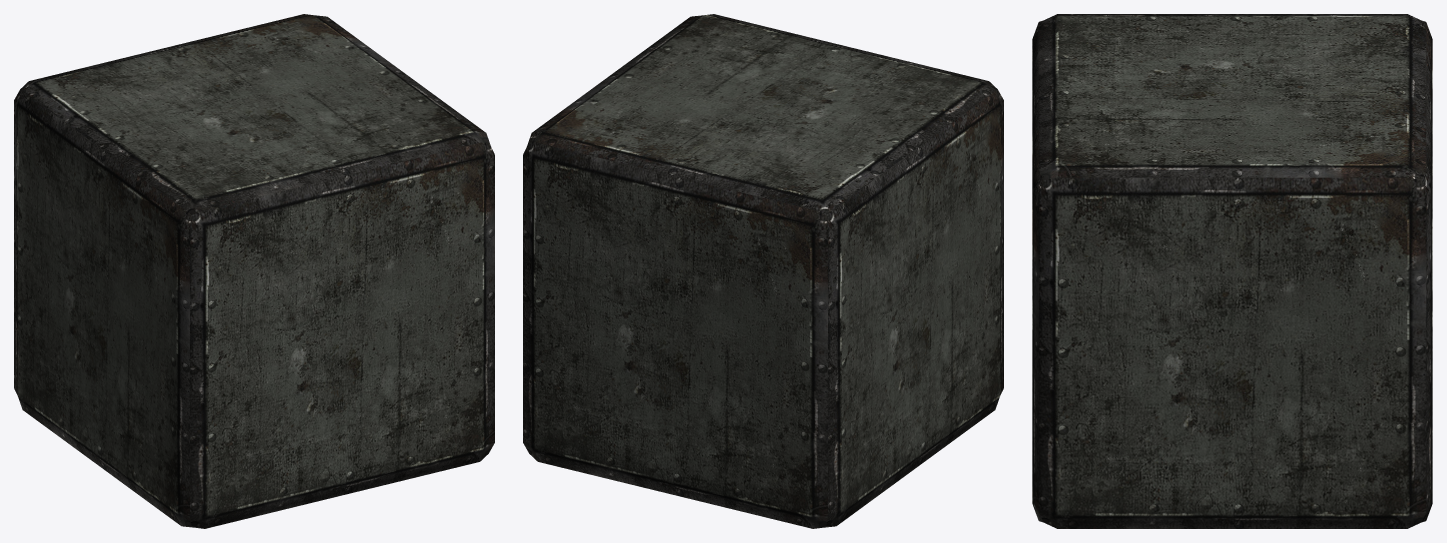
The model's file is crate.dae.
3 renders of one model, left to right at view 1: azimuth 30°, elevation 25°; view 2: azimuth 150°, elevation 25°; view 3: azimuth 270°, elevation 25°, orthographic. The views are drawn at different scales.
Parts seen in each view (by area): view 1: Box001; view 2: Box001; view 3: Box001.
Boxes of the visible parts, <box> form: Box001: <box>14,14,494,528</box>; Box001: <box>523,14,1003,528</box>; Box001: <box>1032,14,1432,528</box>.
Size of the model in its own units: 1 by 1 by 1.
